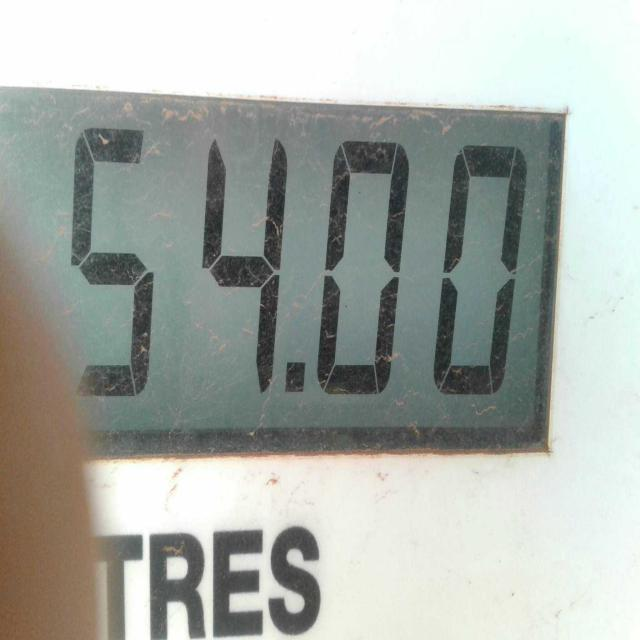.: (277, 333, 317, 419)
0: (423, 132, 530, 419), (314, 124, 418, 412)
4: (189, 122, 289, 415)
5: (50, 120, 178, 430)
